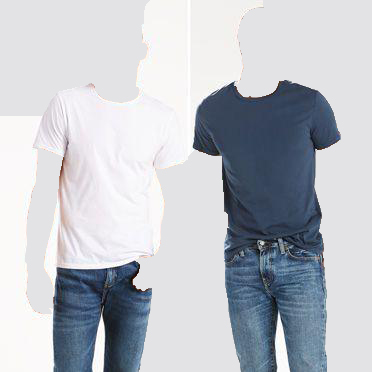teeshirt: (31, 84, 185, 277), (193, 79, 343, 247)
